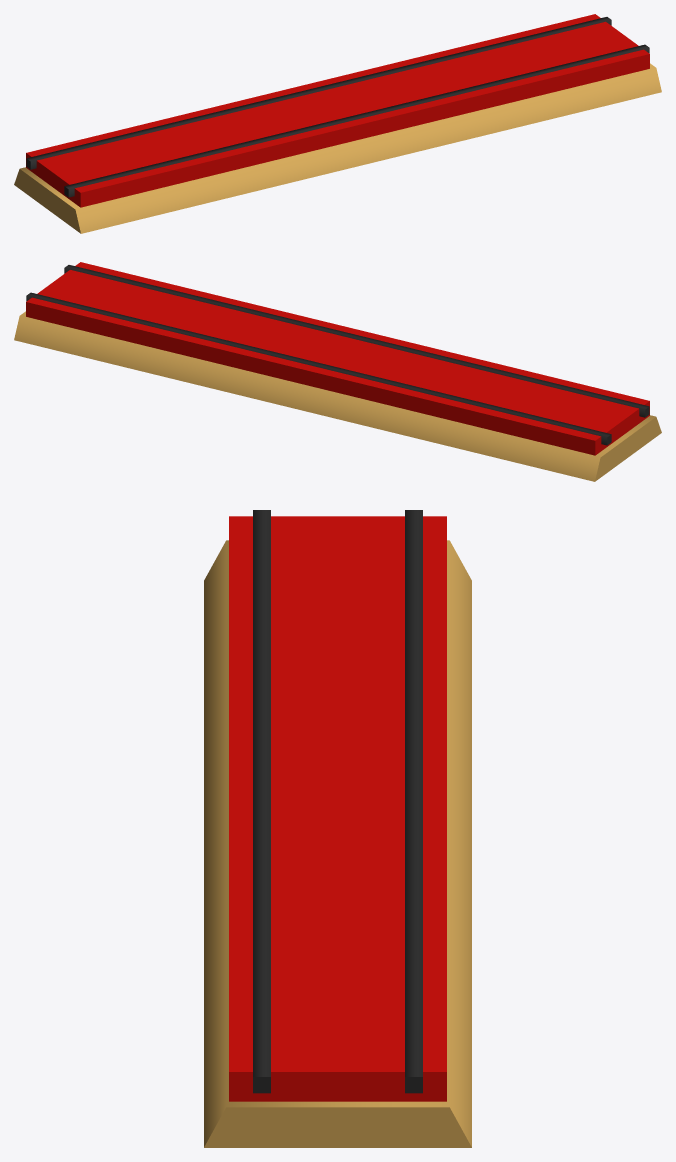
The model's file is straight.fbx.
3 renders of one model, top to bottom at view 1: azimuth 30°, elevation 25°; view 2: azimuth 150°, elevation 25°; view 3: azimuth 270°, elevation 25°, orthographic. The views are drawn at different scales.
Parts seen in each view (by area): view 1: boundingBox, rails; view 2: boundingBox, rails; view 3: boundingBox, rails.
Boxes of the visible parts, left/top/right/bottom form: boundingBox: left=26, top=14, right=649, bottom=207; rails: left=14, top=17, right=661, bottom=233; boundingBox: left=26, top=262, right=649, bottom=455; rails: left=14, top=265, right=661, bottom=481; boundingBox: left=229, top=516, right=446, bottom=1101; rails: left=204, top=510, right=471, bottom=1147.
Bounding box in the file's own units: 600 × 35 × 120.
